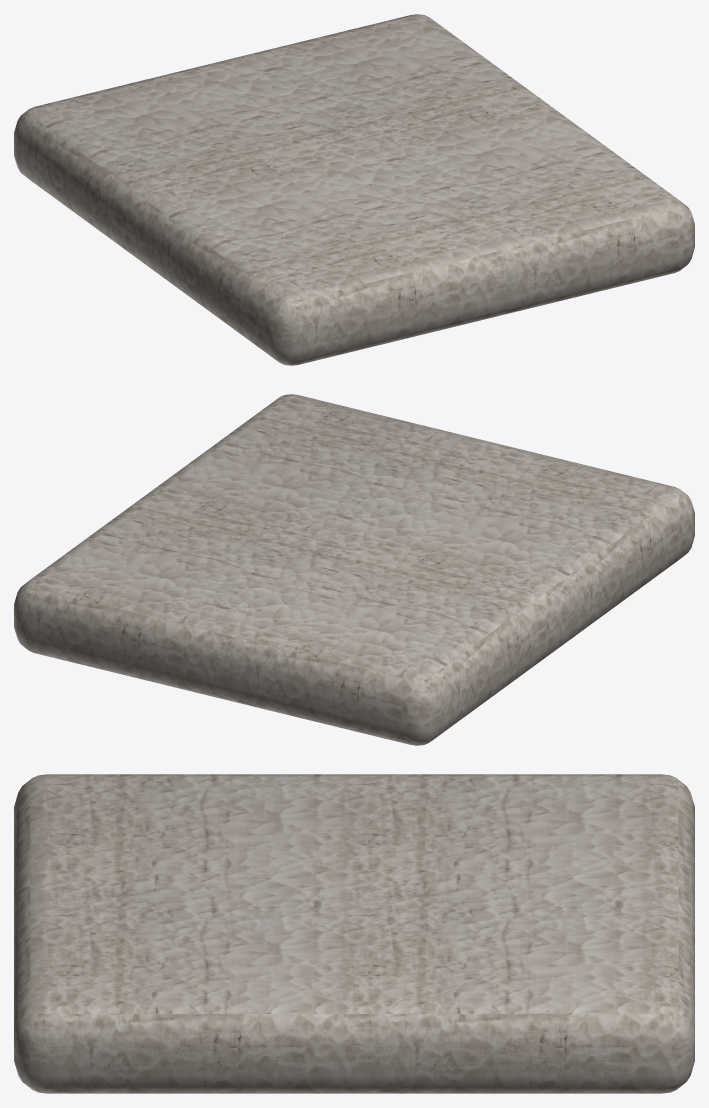
File: Matress.FBX
3 renders of one model, top to bottom at view 1: azimuth 30°, elevation 25°; view 2: azimuth 150°, elevation 25°; view 3: azimuth 270°, elevation 25°, orthographic. The views are drawn at different scales.
Visible parts, largest first — view 1: ChamferBox001; view 2: ChamferBox001; view 3: ChamferBox001.
Boxes of the visible parts, box(x1,y1,x2,y2) form: ChamferBox001: box(14, 14, 694, 365); ChamferBox001: box(14, 394, 694, 745); ChamferBox001: box(14, 774, 694, 1093).
Size of the model in its own units: 53.2 by 8.56 by 60.41.
Materials: 1 (1 with a texture image).
